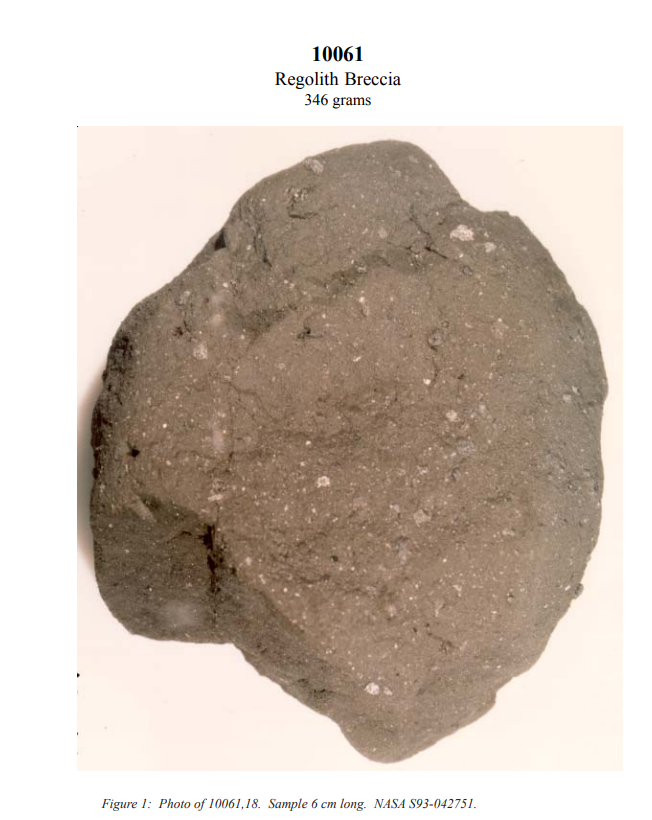Breccia: (84, 114, 594, 778)
